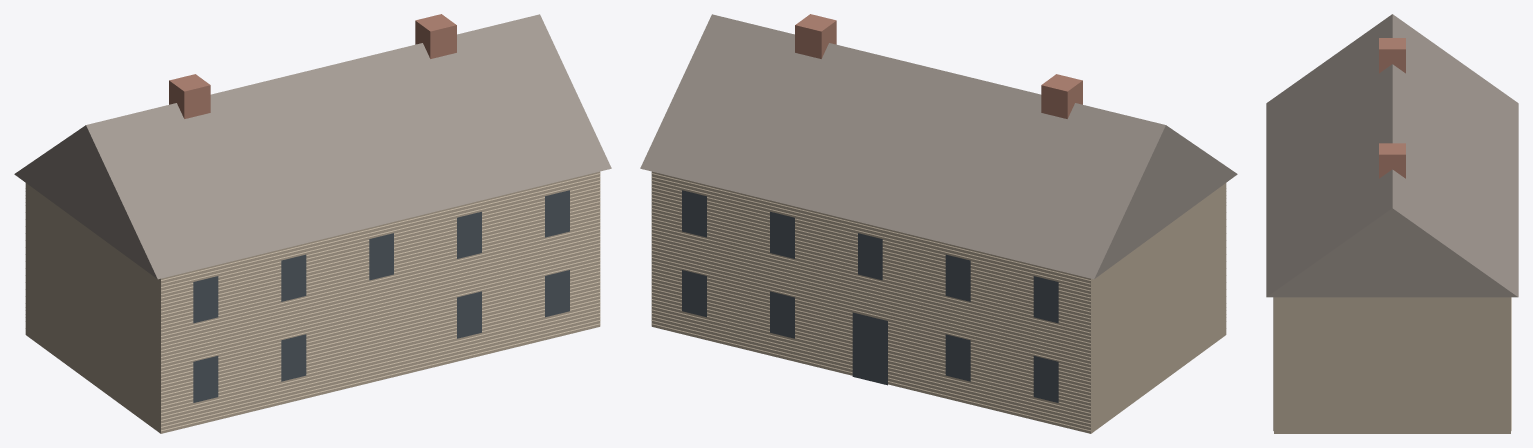
Rendered from steamboat_hotel__frame_1835.glb.
The picture shows the model from 3 angles, left to right: view 1: azimuth 30°, elevation 25°; view 2: azimuth 150°, elevation 25°; view 3: azimuth 270°, elevation 25°; orthographic projection. The views are drawn at different scales.
Parts seen in each view (by area): view 1: steamboat_hotel__frame_1835; view 2: steamboat_hotel__frame_1835; view 3: steamboat_hotel__frame_1835.
Boxes of the visible parts, <box> form: steamboat_hotel__frame_1835: <box>14,14,611,433</box>; steamboat_hotel__frame_1835: <box>640,14,1237,433</box>; steamboat_hotel__frame_1835: <box>1266,14,1518,433</box>.
Size of the model in its own units: 15.5 by 9.07 by 8.5.
